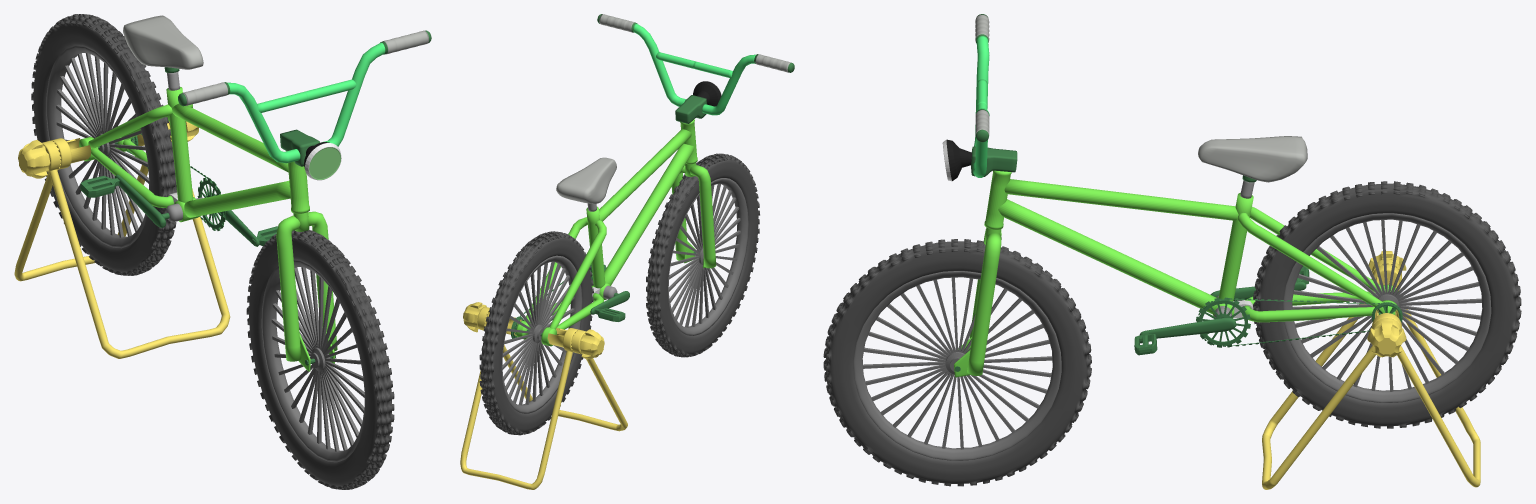
File: pit.fbx
3 renders of one model, left to right at view 1: azimuth 30°, elevation 25°; view 2: azimuth 150°, elevation 25°; view 3: azimuth 270°, elevation 25°, orthographic. The views are drawn at different scales.
Parts seen in each view (by area): view 1: Circle.001, Circle.004, pedok_bicyle, Circle.002, Circle.005, Cylinder, Cylinder.003, Circle, Cylinder.002, Circle.003, Cube.001, Cylinder.005 (+6 smaller); view 2: Circle.001, Circle.004, pedok_bicyle, Cylinder, Circle.005, Circle.002, Circle, Cylinder.003, Cylinder.002, Cube.001, Circle.003, Cylinder.009 (+4 smaller); view 3: Circle.001, Circle.004, Cylinder, Circle.002, Circle.005, pedok_bicyle, Circle, Circle.003, Cube.001, Cylinder.009, Cylinder.002, Cylinder.010 (+5 smaller).
Boxes of the visible parts, <box> form: Circle.001: <box>246,230,394,489</box>; Circle.004: <box>31,14,176,275</box>; pedok_bicyle: <box>14,121,230,358</box>; Circle.002: <box>271,267,364,451</box>; Circle.005: <box>56,53,149,237</box>; Cylinder: <box>166,87,309,222</box>; Cylinder.003: <box>227,42,385,163</box>; Circle: <box>261,259,365,462</box>; Cylinder.002: <box>276,211,337,371</box>; Circle.003: <box>46,45,149,248</box>; Cube.001: <box>123,15,203,69</box>; Cylinder.005: <box>182,30,428,105</box>; Circle.001: <box>646,153,759,357</box>; Circle.004: <box>479,231,593,435</box>; pedok_bicyle: <box>460,302,627,489</box>; Cylinder: <box>586,119,697,299</box>; Circle.005: <box>502,261,574,405</box>; Circle.002: <box>668,184,740,327</box>; Circle: <box>668,178,748,335</box>; Cylinder.003: <box>633,23,755,115</box>; Cylinder.002: <box>671,164,716,268</box>; Cube.001: <box>556,157,616,203</box>; Circle.003: <box>501,255,582,413</box>; Cylinder.009: <box>524,217,606,329</box>; Circle.001: <box>823,239,1091,486</box>; Circle.004: <box>1253,181,1521,428</box>; Cylinder: <box>984,170,1253,318</box>; Circle.002: <box>863,277,1052,449</box>; Circle.005: <box>1292,220,1481,391</box>; pedok_bicyle: <box>1262,251,1480,489</box>; Circle: <box>853,271,1061,460</box>; Circle.003: <box>1283,213,1491,402</box>; Cube.001: <box>1198,136,1307,182</box>; Cylinder.009: <box>1238,206,1383,307</box>; Cylinder.002: <box>954,229,1001,377</box>; Cylinder.010: <box>1242,291,1375,322</box>.
Size of the model in its own units: 381 by 602 by 925.
